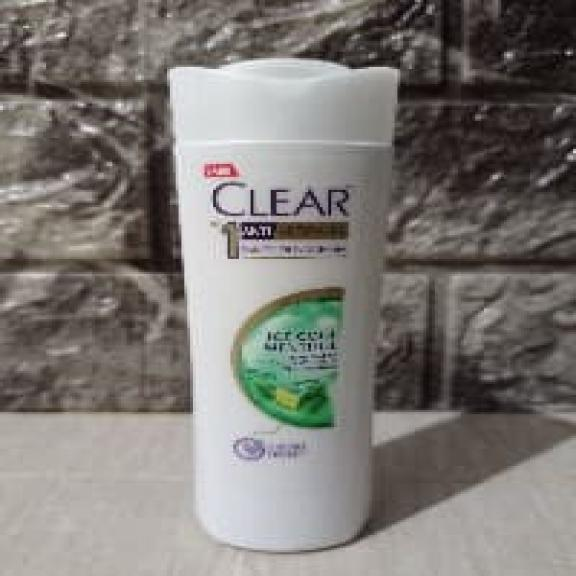Plastik: (175, 71, 411, 558)
